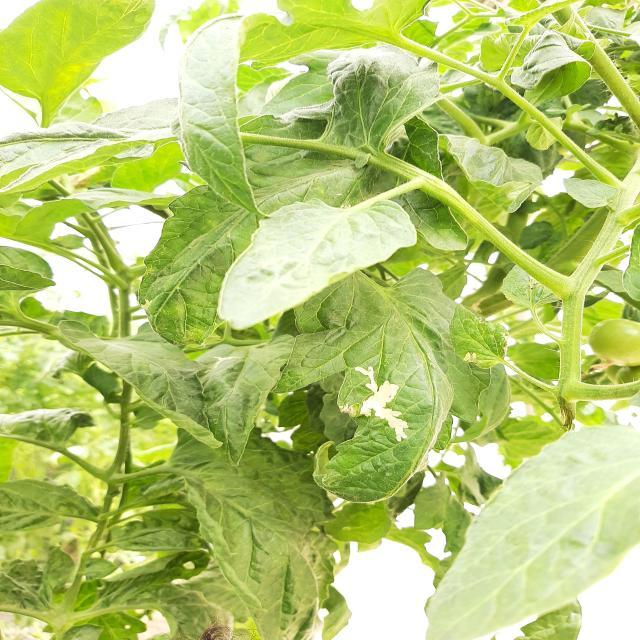Tuta absoluta: (334, 360, 428, 444)
